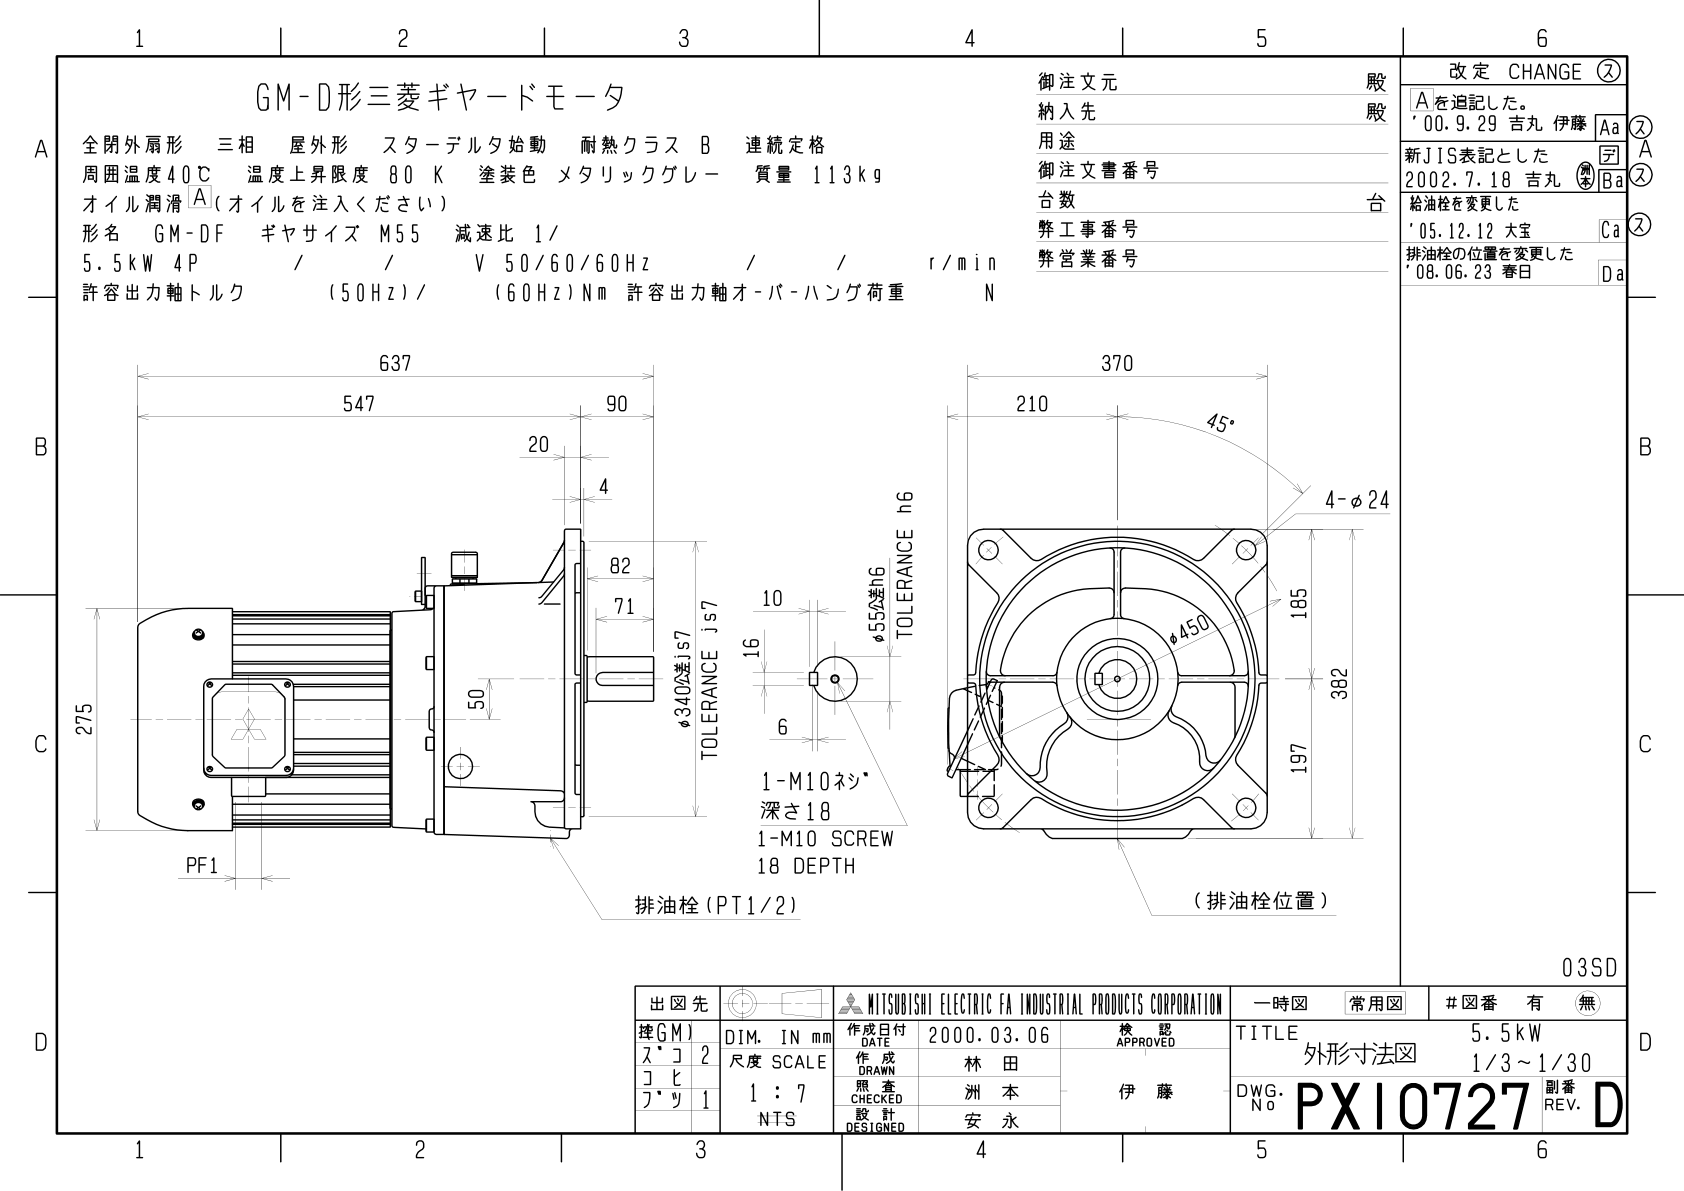GM_D_屋外＿三相_フランジ: (10, 9, 1684, 1191)
